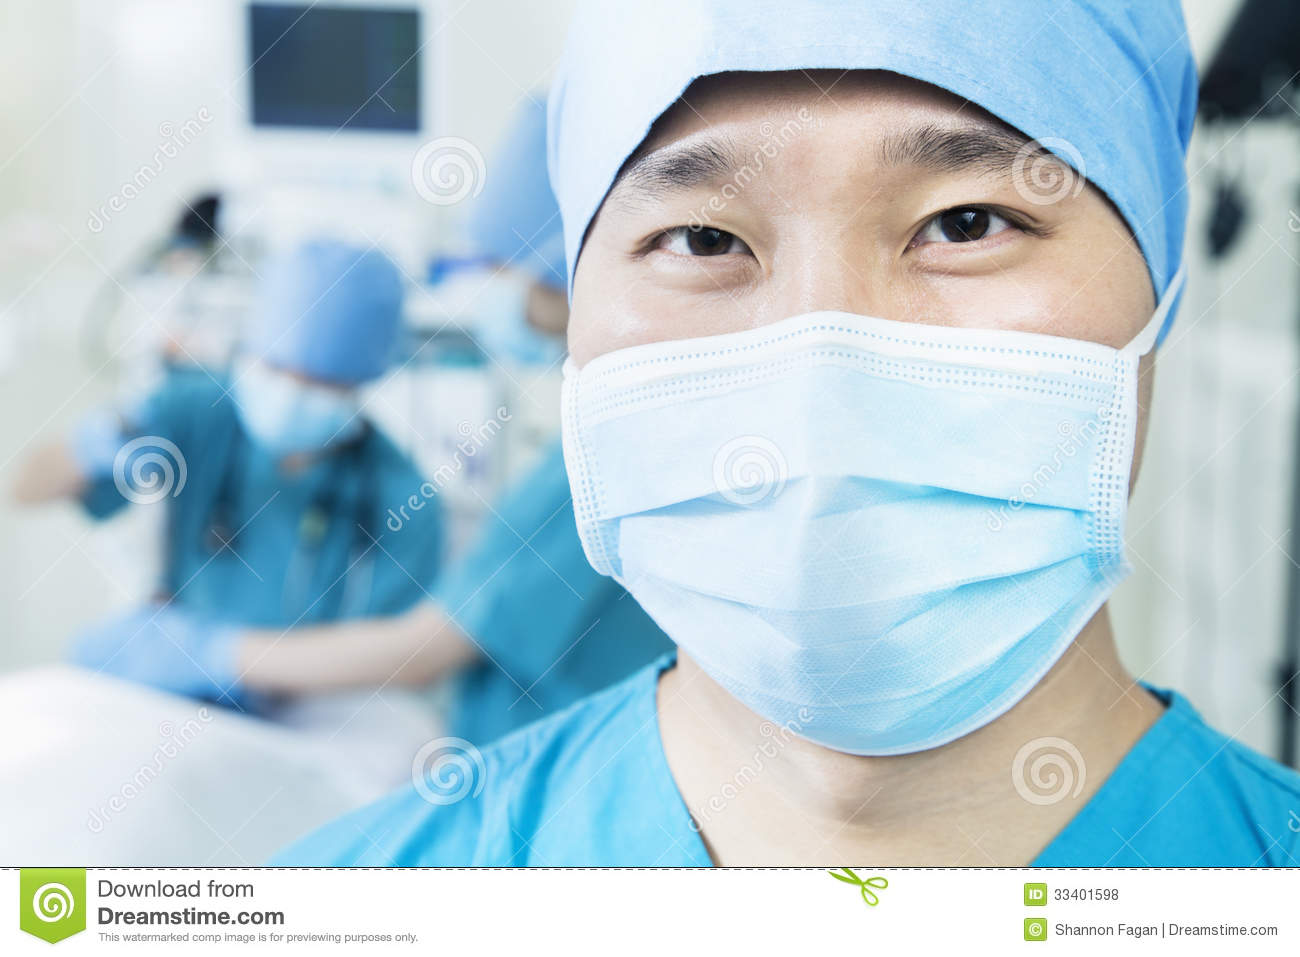mask: (564, 330, 1167, 729)
